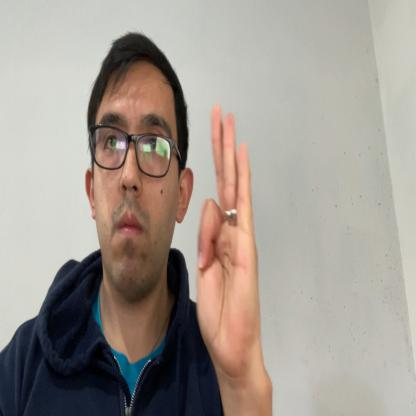F: (196, 104, 257, 376)
